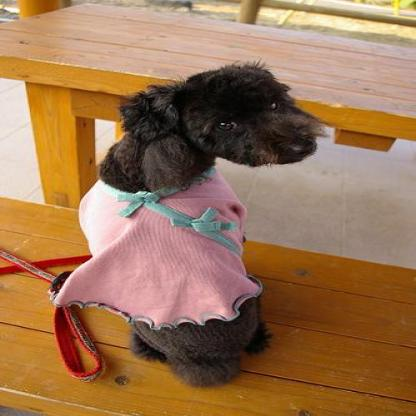toy_poodle: (49, 58, 331, 387)
